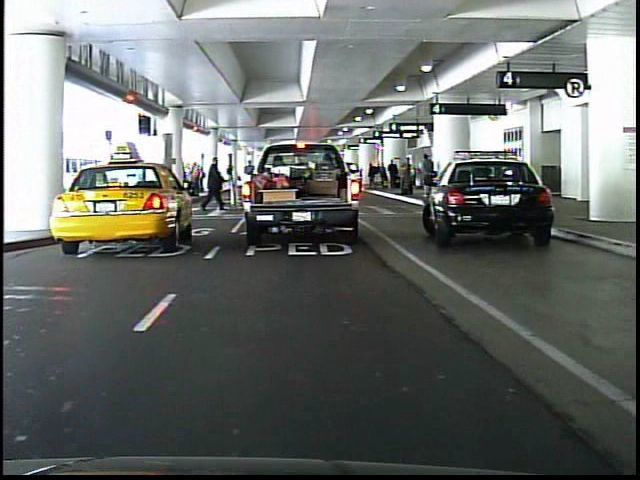person: (199, 154, 228, 214), (267, 146, 291, 202)
